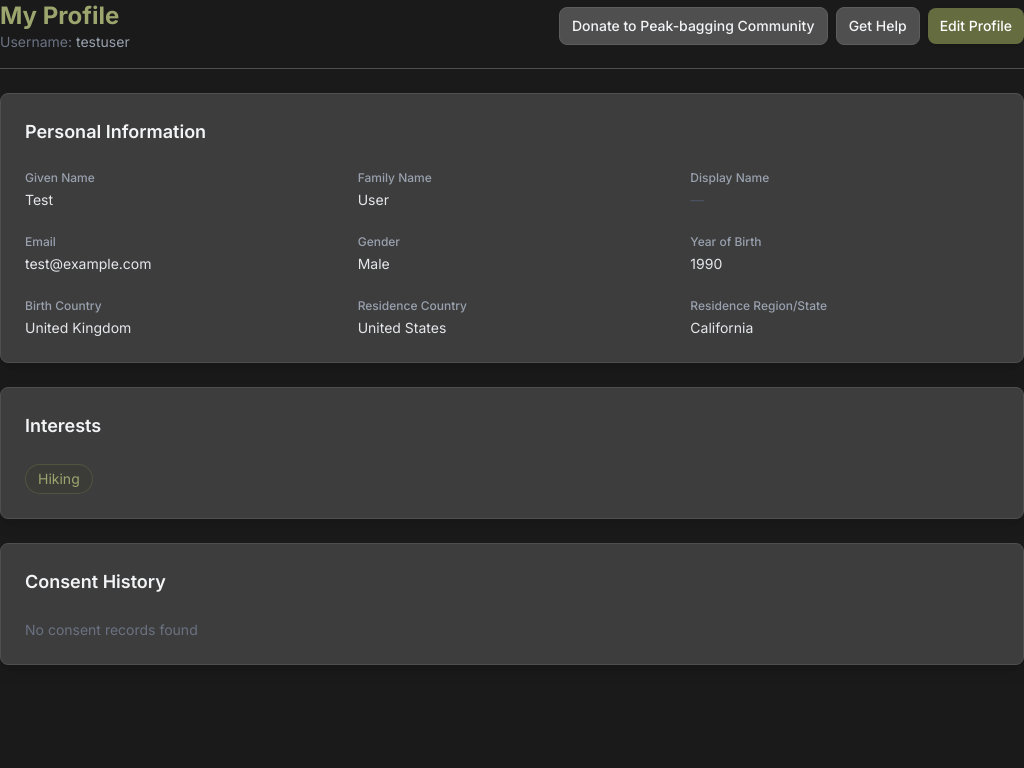
Test case: UserOwnProfile › enters edit mode when clicking edit button
The image size is (1024, 768).
Click the button "Edit Profile" at [976, 26], box [928,8,1023,44]
(page scrolled)
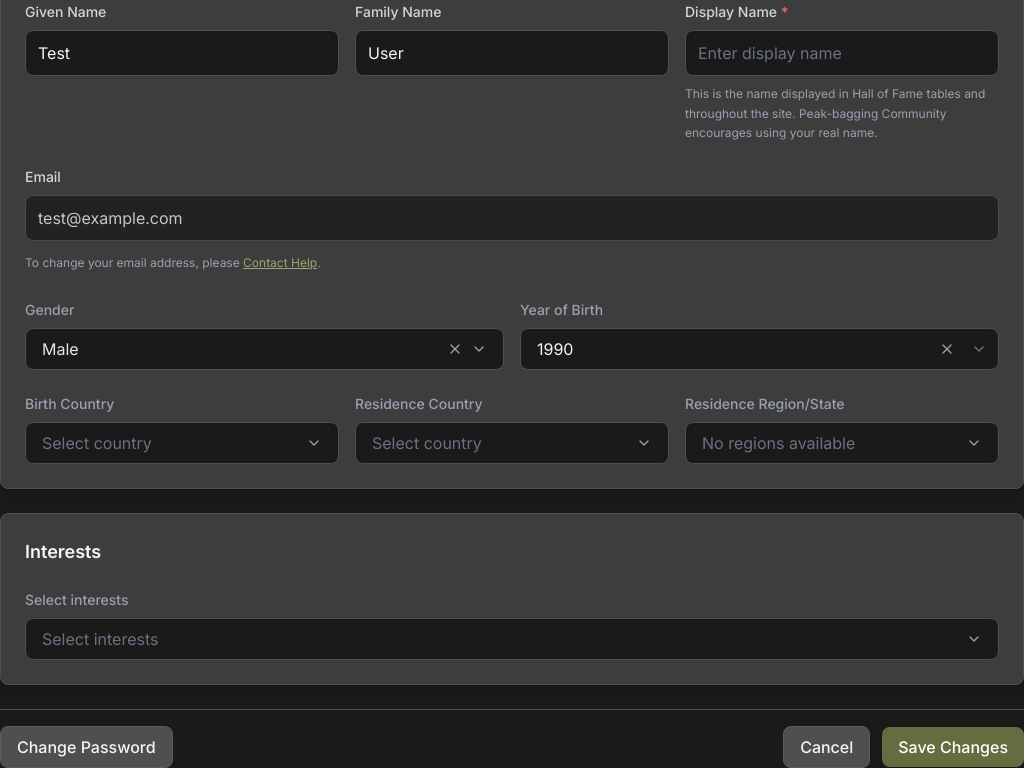
Expected: the button "Save Changes" is shown, [882,727,1023,767]
Expected: the button "Cancel" is shown, [783,726,870,767]
